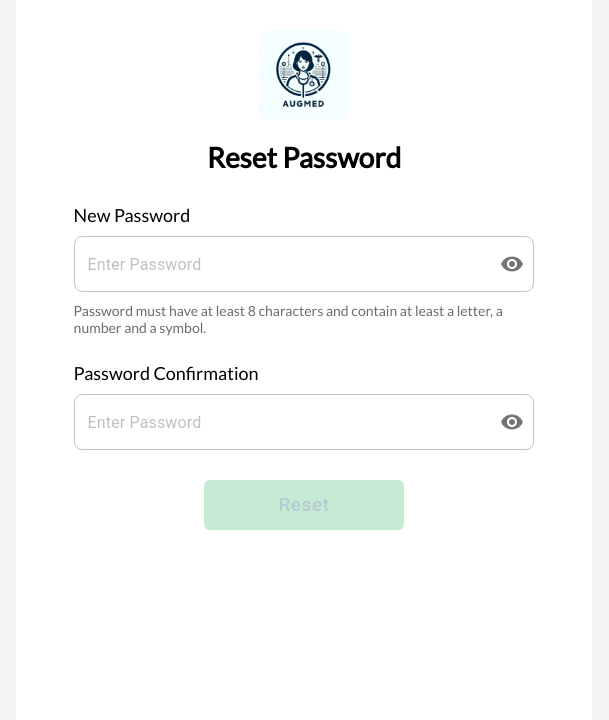
Test case: ResetPasswordPage › submit password reset when return error
The width and height of the screenshot is (609, 720).
Step 1. Type "admin@123" into the password field with test id "new-password-input" → (279, 264), box [74,236,484,292]
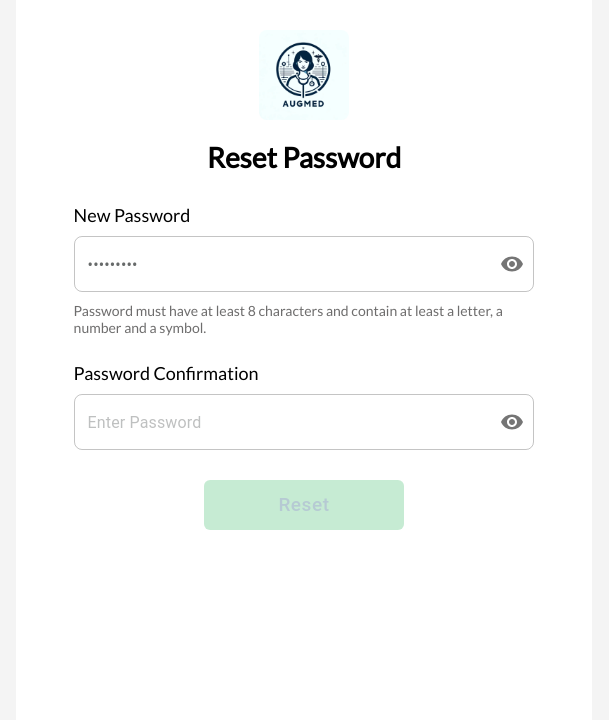
Step 2. Type "admin@123" into the password field with test id "confirm-password-input" → (279, 422), box [74,394,484,450]
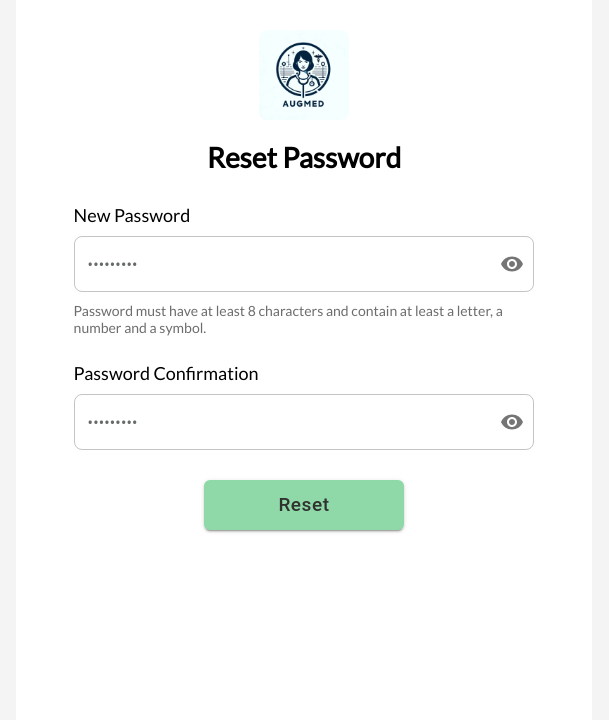
Step 3. Click the button with test id "submit-button" → (304, 505), box [204,480,404,530]
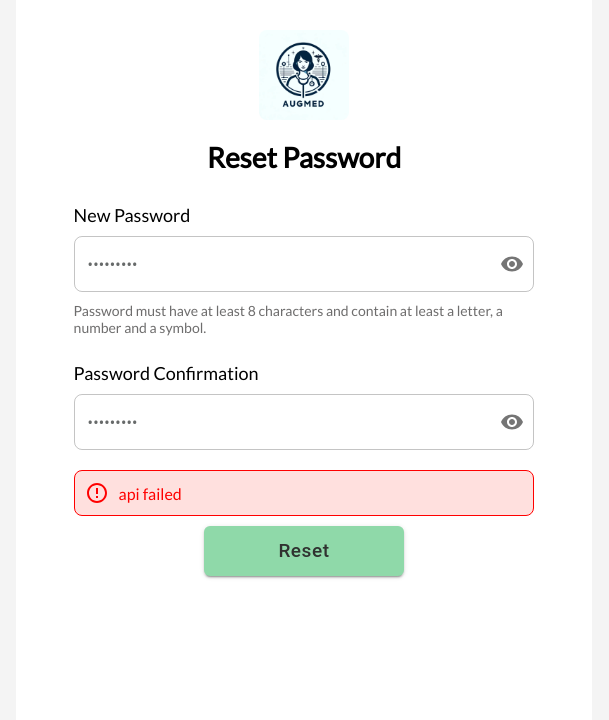
Expected: the text "api failed" is shown, [119,484,182,502]
